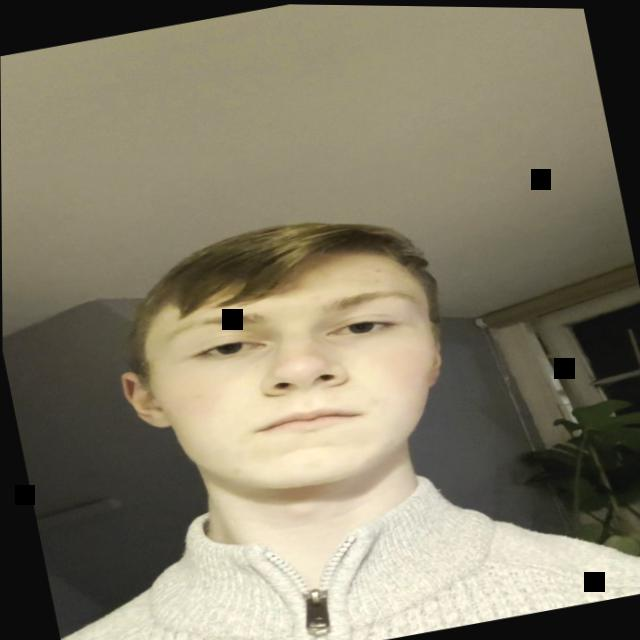NO-Mask: (102, 187, 482, 553)
